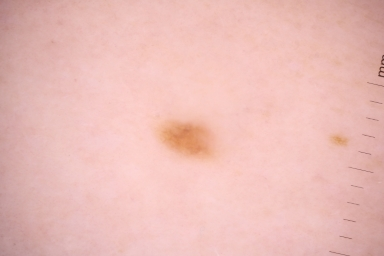nevus: (167, 120, 218, 154), (332, 131, 348, 148)
